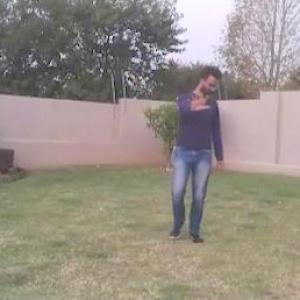follow_hand: (181, 84, 213, 110)
